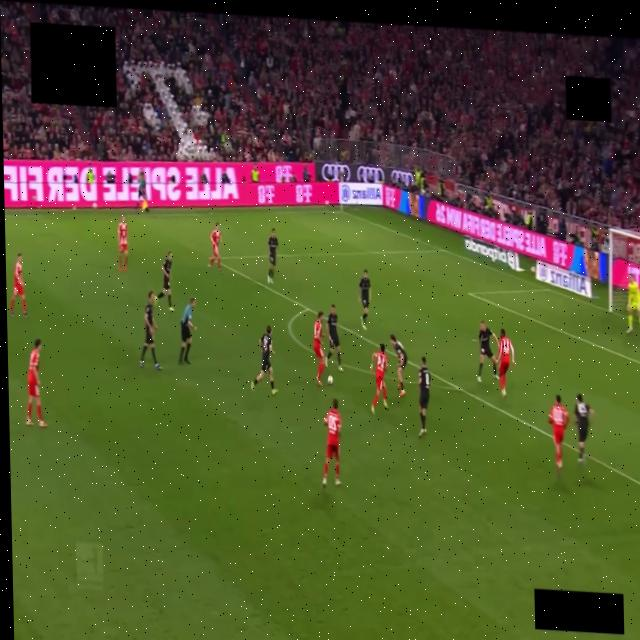ball: (327, 376, 332, 385)
player: (25, 339, 46, 427), (250, 326, 276, 395), (139, 292, 160, 370), (548, 396, 568, 477), (322, 399, 340, 489), (574, 394, 592, 463), (477, 321, 497, 382), (154, 252, 174, 312), (371, 343, 388, 413), (496, 329, 513, 396), (326, 305, 342, 371), (417, 357, 430, 437), (390, 335, 407, 396), (10, 254, 26, 317), (313, 312, 325, 386), (626, 275, 639, 333), (359, 269, 370, 330), (208, 223, 221, 272), (267, 229, 277, 284), (117, 217, 127, 271)
referee: (178, 299, 195, 364)
